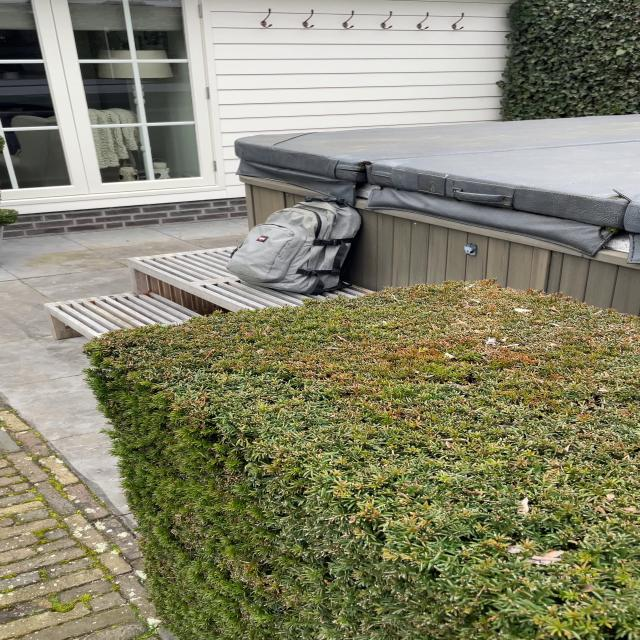backpack: (223, 193, 370, 300)
